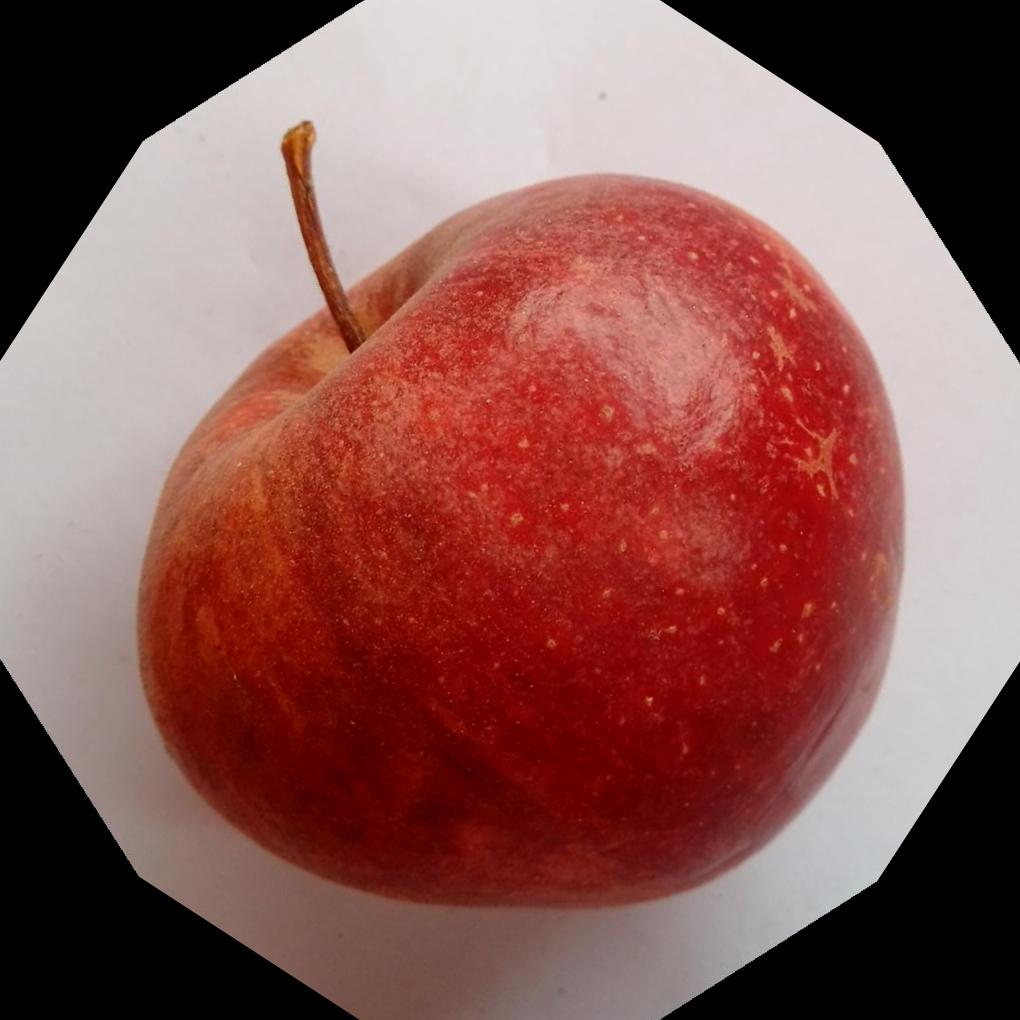FreshGuava: (135, 167, 910, 909)
